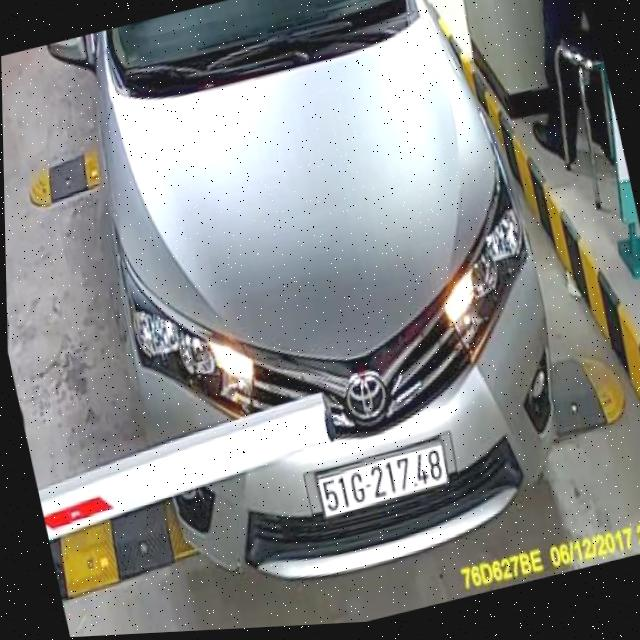car: (31, 0, 603, 629)
plate: (308, 437, 452, 526)
